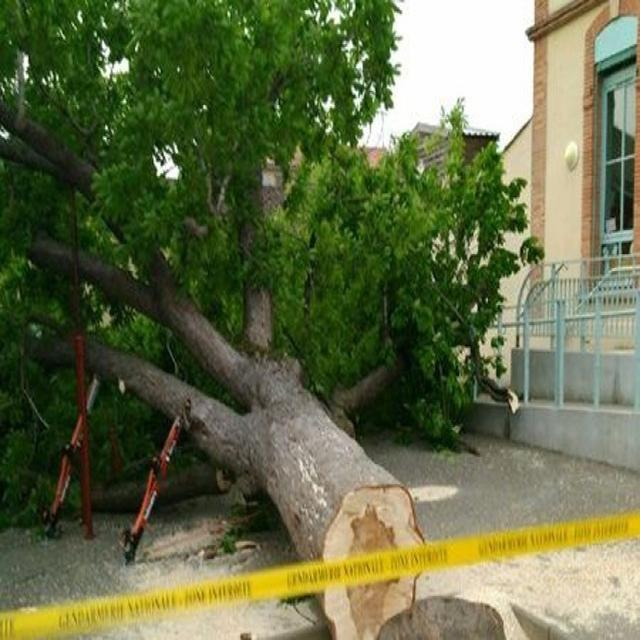fallen_object: (20, 108, 524, 635)
